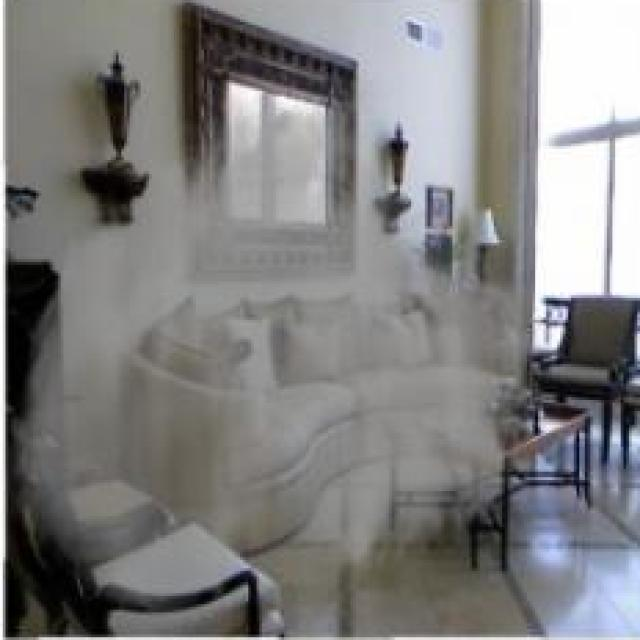fire: (18, 102, 531, 596)
